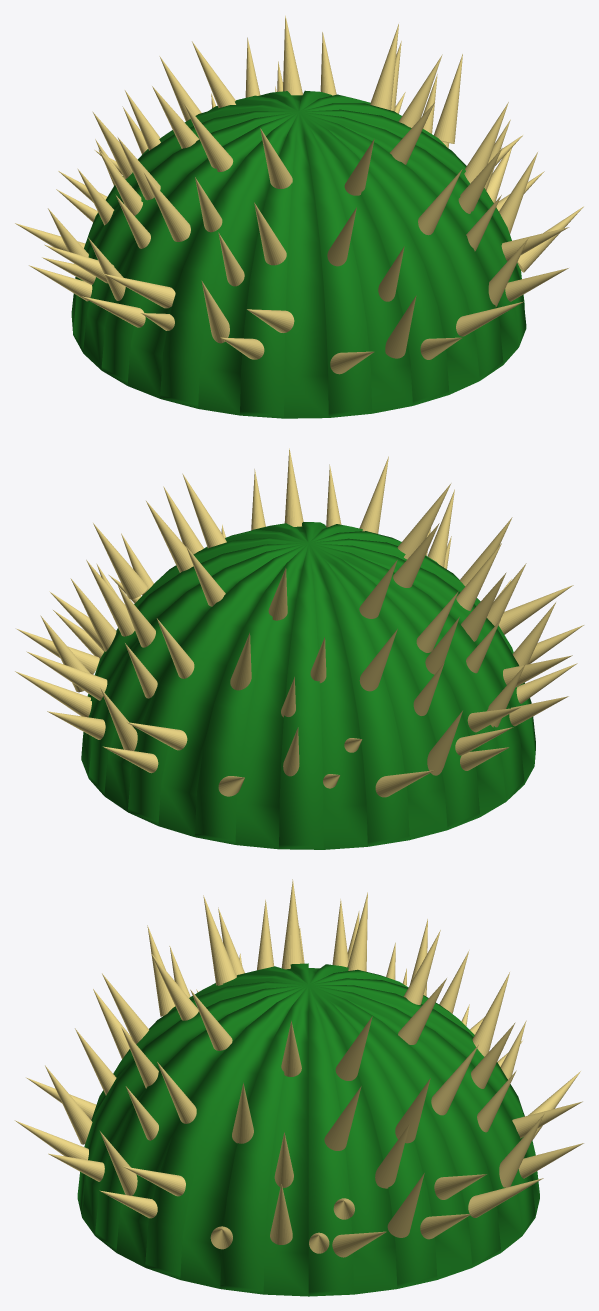
The model's file is cactusattacktus.fbx.
3 renders of one model, top to bottom at view 1: azimuth 30°, elevation 25°; view 2: azimuth 150°, elevation 25°; view 3: azimuth 270°, elevation 25°, orthographic.
Parts seen in each view (by area): view 1: Cactus, Spikes.011, Spikes.001, Spikes.003, Spikes.009, Spikes.006, Spikes.002, Spikes.010, Spikes.008, Spikes.012; view 2: Cactus, Spikes.010, Spikes.012, Spikes.003, Spikes.011, Spikes.009, Spikes.008, Spikes.002, Spikes.001, Spikes.006, Spikes.007; view 3: Cactus, Spikes.010, Spikes.012, Spikes.001, Spikes.006, Spikes.002, Spikes.008, Spikes.003, Spikes.011, Spikes.009.
Part boxes in pixels (x1=…): Cactus: x1=71, y1=90, x2=526, y2=418; Spikes.011: x1=42, y1=103, x2=233, y2=327; Spikes.001: x1=390, y1=102, x2=569, y2=336; Spikes.003: x1=141, y1=128, x2=294, y2=359; Spikes.009: x1=15, y1=86, x2=199, y2=301; Spikes.006: x1=327, y1=139, x2=462, y2=374; Spikes.002: x1=398, y1=54, x2=583, y2=272; Spikes.010: x1=370, y1=24, x2=511, y2=202; Spikes.008: x1=56, y1=41, x2=235, y2=222; Spikes.012: x1=211, y1=15, x2=336, y2=108; Cactus: x1=81, y1=522, x2=535, y2=849; Spikes.010: x1=15, y1=501, x2=193, y2=717; Spikes.012: x1=47, y1=546, x2=225, y2=773; Spikes.003: x1=397, y1=483, x2=583, y2=703; Spikes.011: x1=393, y1=523, x2=572, y2=755; Spikes.009: x1=359, y1=560, x2=520, y2=797; Spikes.008: x1=218, y1=568, x2=362, y2=796; Spikes.002: x1=53, y1=473, x2=226, y2=659; Spikes.001: x1=221, y1=448, x2=341, y2=537; Spikes.006: x1=359, y1=456, x2=511, y2=601; Spikes.007: x1=49, y1=591, x2=104, y2=651; Cactus: x1=77, y1=963, x2=539, y2=1296; Spikes.010: x1=324, y1=1016, x2=486, y2=1257; Spikes.012: x1=398, y1=978, x2=583, y2=1217; Spikes.001: x1=48, y1=989, x2=232, y2=1218; Spikes.006: x1=14, y1=953, x2=198, y2=1159; Spikes.002: x1=210, y1=1021, x2=329, y2=1253; Spikes.008: x1=403, y1=930, x2=580, y2=1140; Spikes.003: x1=93, y1=895, x2=244, y2=1059; Spikes.011: x1=239, y1=879, x2=348, y2=970; Spikes.009: x1=347, y1=892, x2=469, y2=1026.
Bounding box in the file's own units: 250 × 124 × 247.
